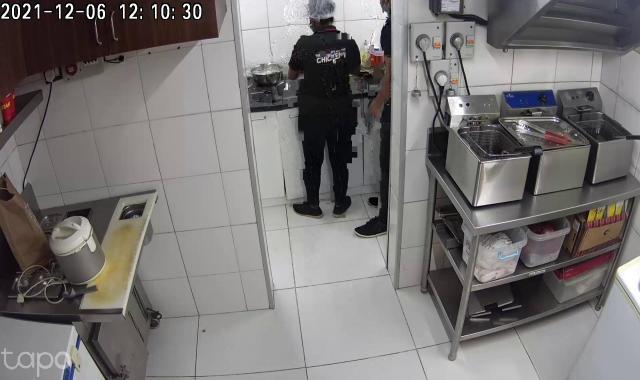Hairnet: (305, 1, 339, 21)
No_Glove: (365, 97, 385, 121)
